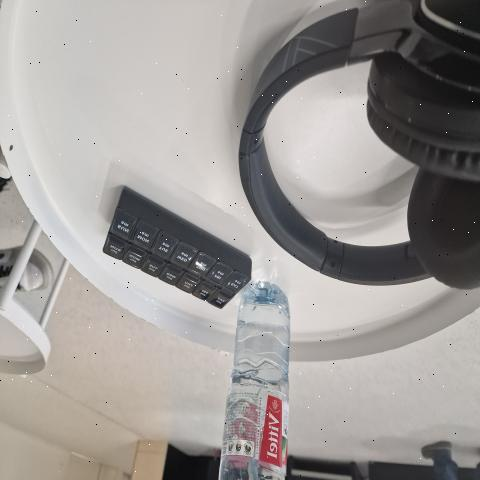PillBox: (74, 184, 259, 328)
